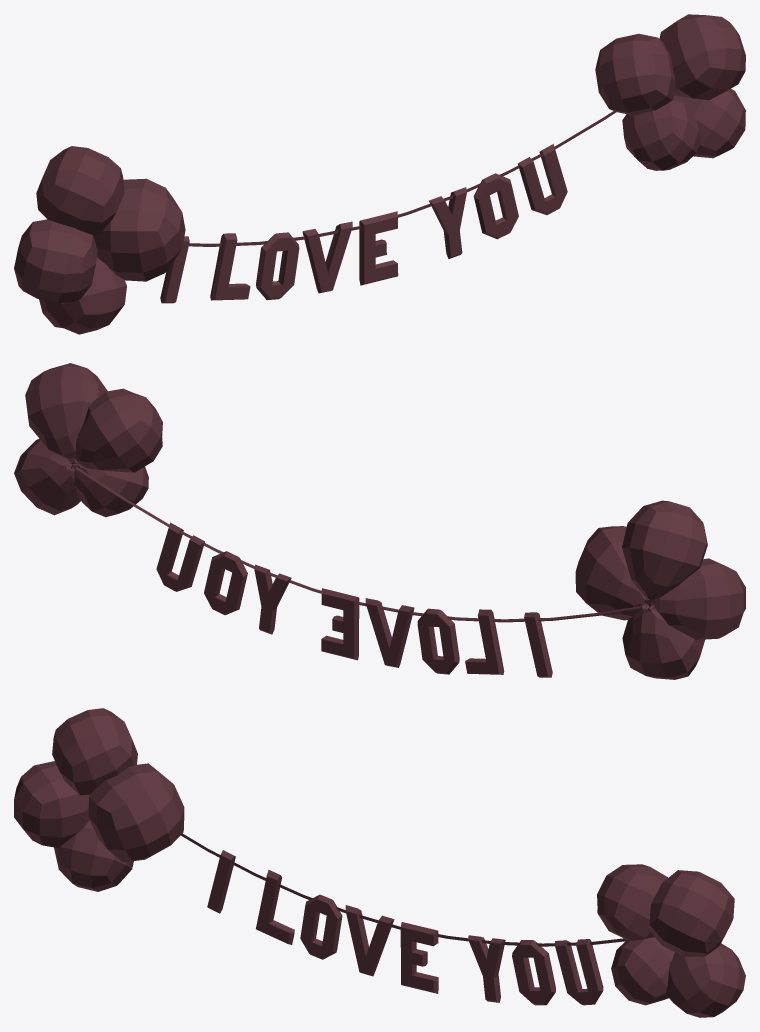
Rendered from balloons-sign-i-love-you-big.fbx.
3 renders of one model, top to bottom at view 1: azimuth 30°, elevation 25°; view 2: azimuth 150°, elevation 25°; view 3: azimuth 330°, elevation 25°, orthographic. The views are drawn at different scales.
Parts seen in each view (by area): view 1: balloons-sign-i-love-you-big; view 2: balloons-sign-i-love-you-big; view 3: balloons-sign-i-love-you-big.
Boxes of the visible parts, left/top/right/bottom form: balloons-sign-i-love-you-big: left=14, top=14, right=745, bottom=334; balloons-sign-i-love-you-big: left=14, top=363, right=745, bottom=679; balloons-sign-i-love-you-big: left=14, top=708, right=745, bottom=1017.
Size of the model in its own units: 3.09 by 0.889 by 0.3934.
